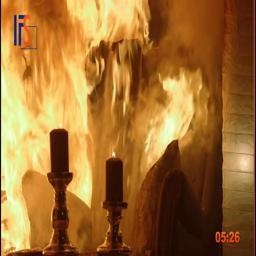fire: (3, 0, 176, 218)
